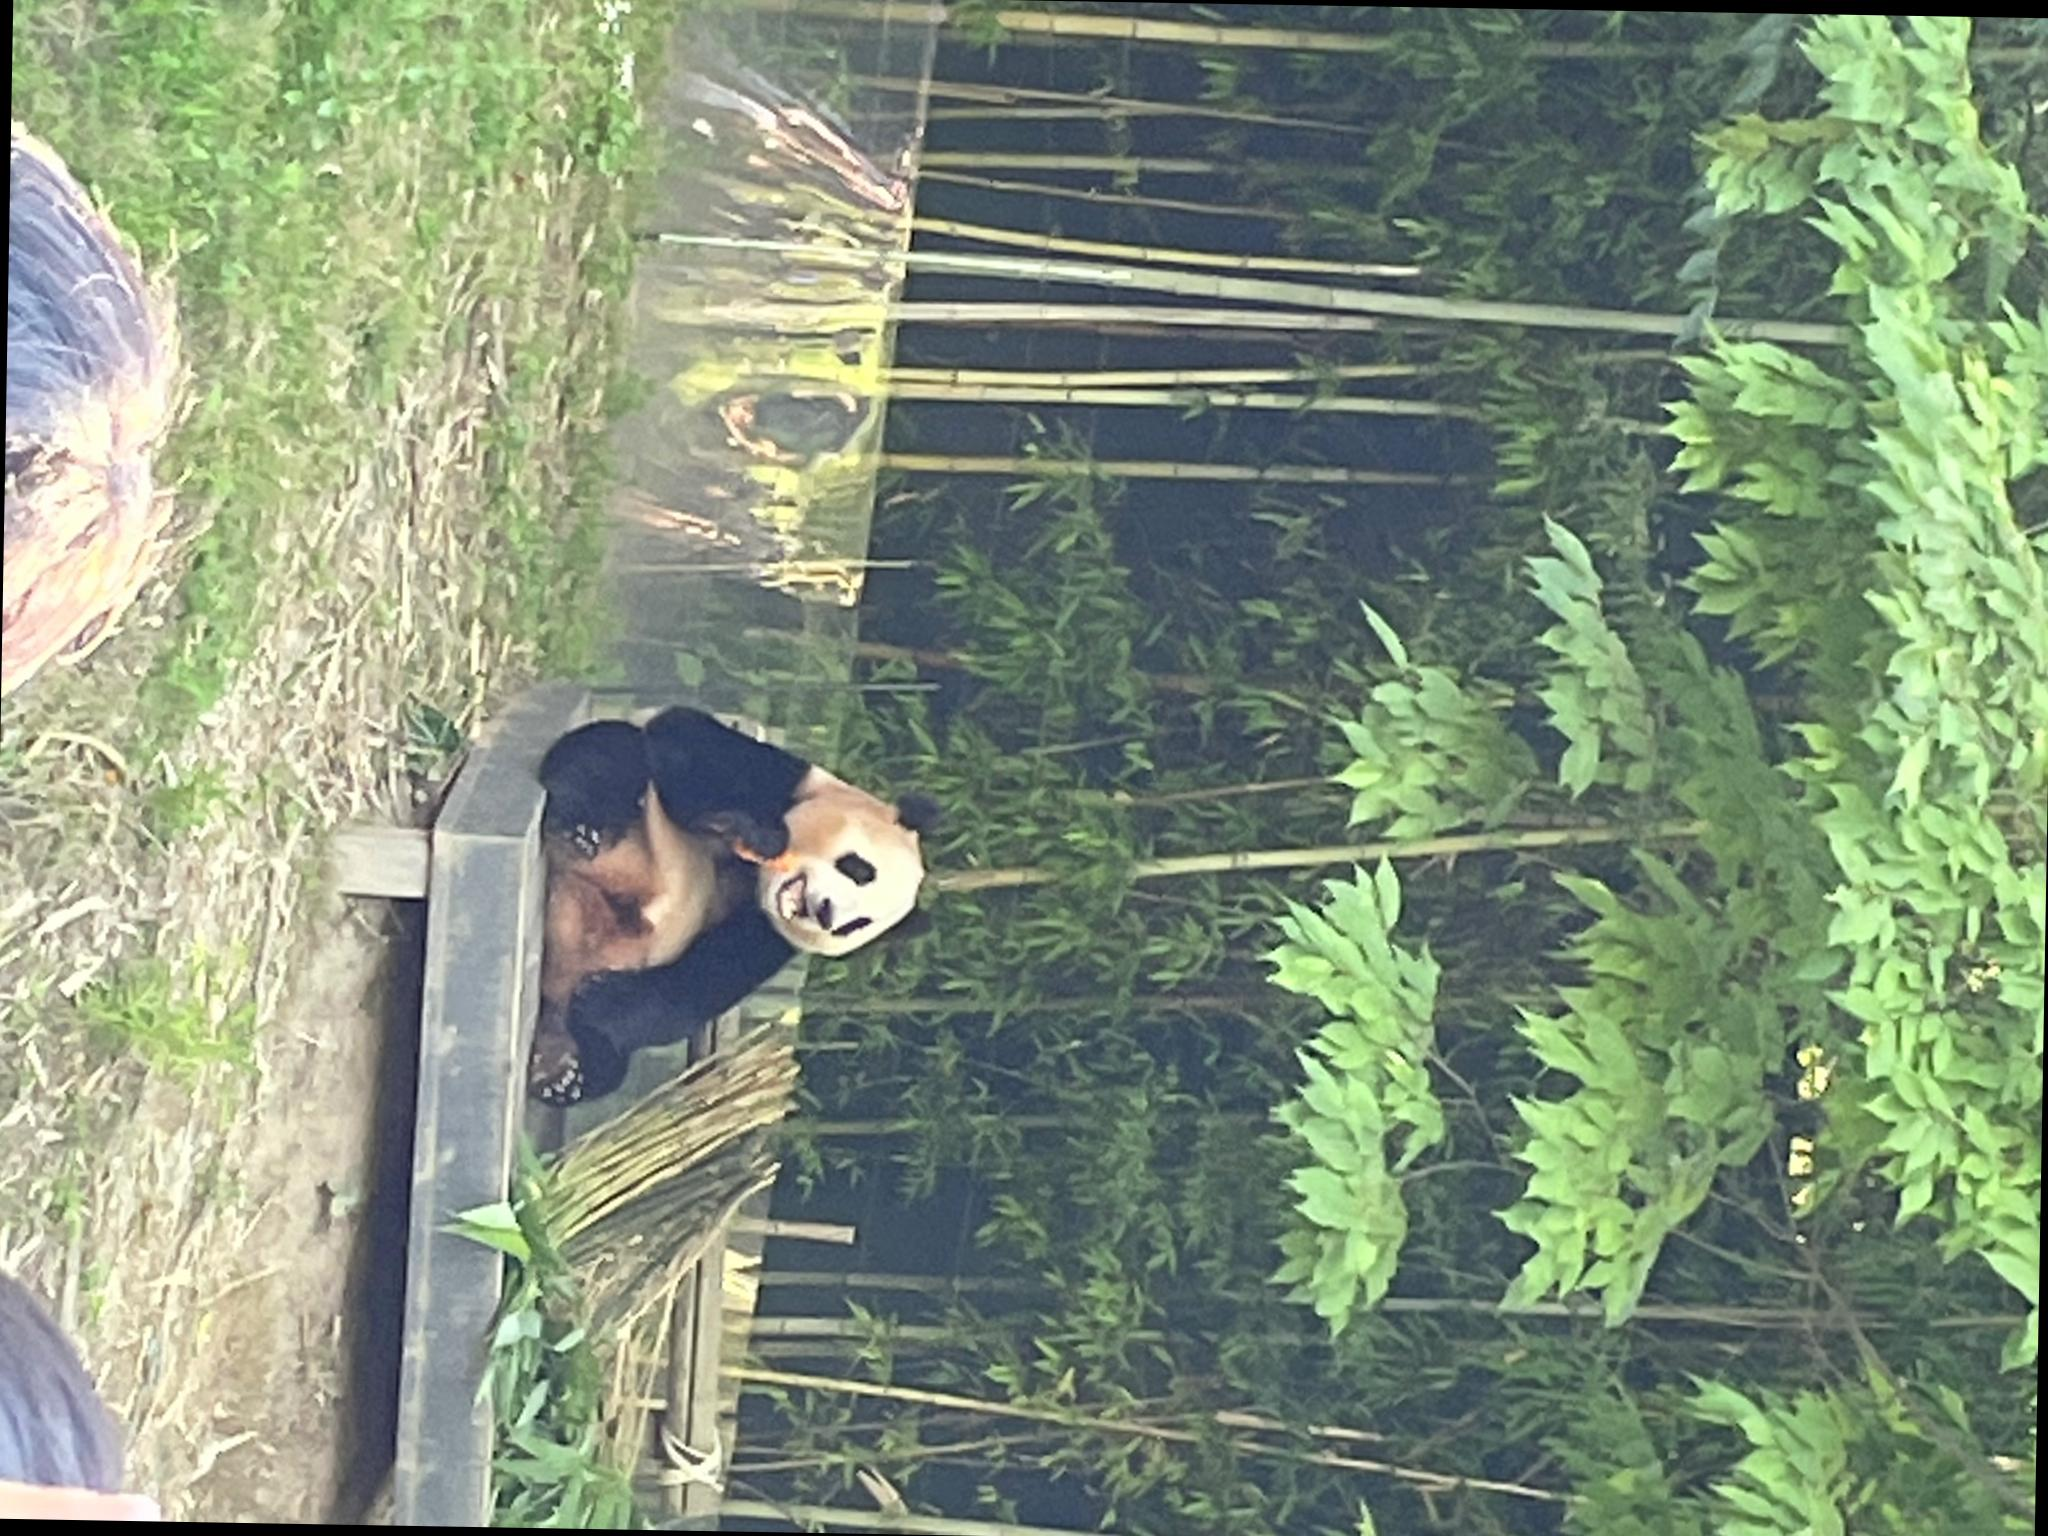panda: (1209, 1104, 1624, 1526)
